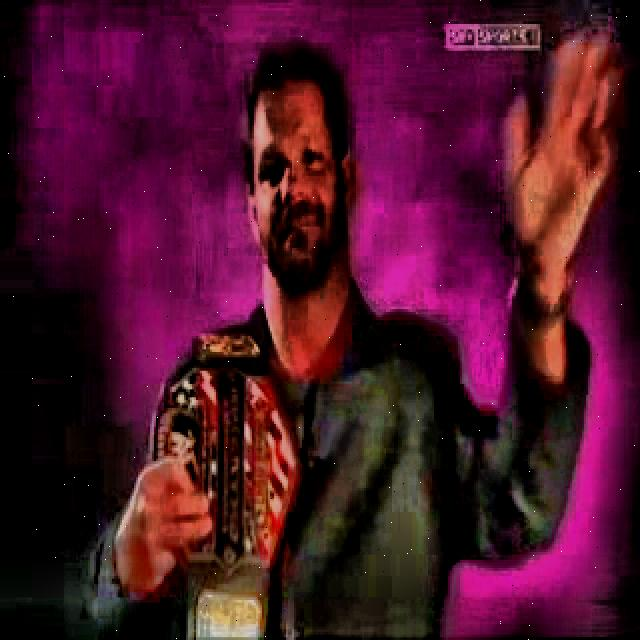L: (81, 36, 606, 636)
